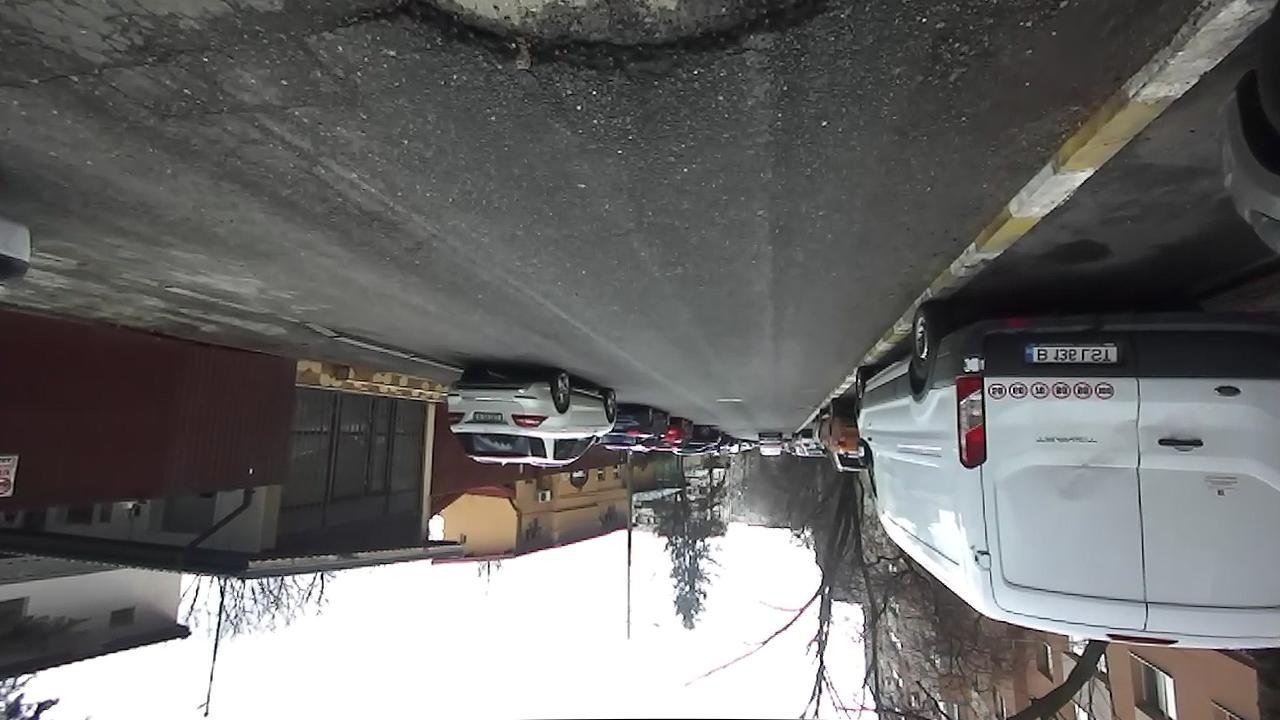pothole: (327, 0, 880, 87)
